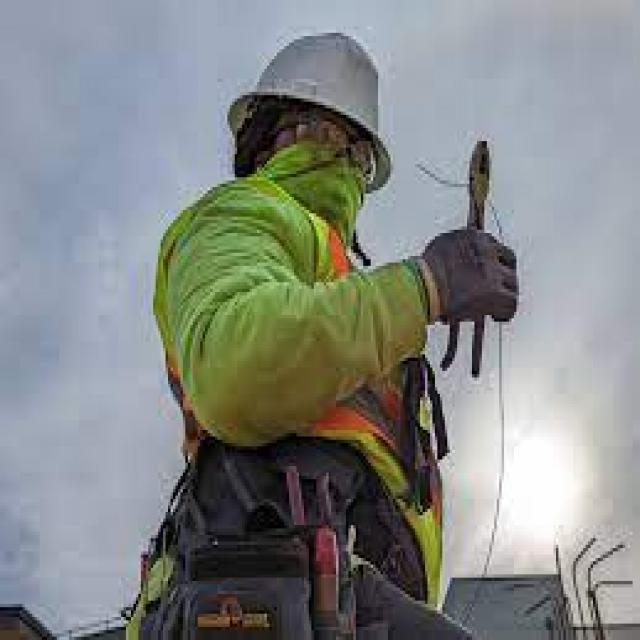Reflective-Jacket: (136, 187, 464, 634)
Safety-Helmet: (215, 20, 410, 184)
